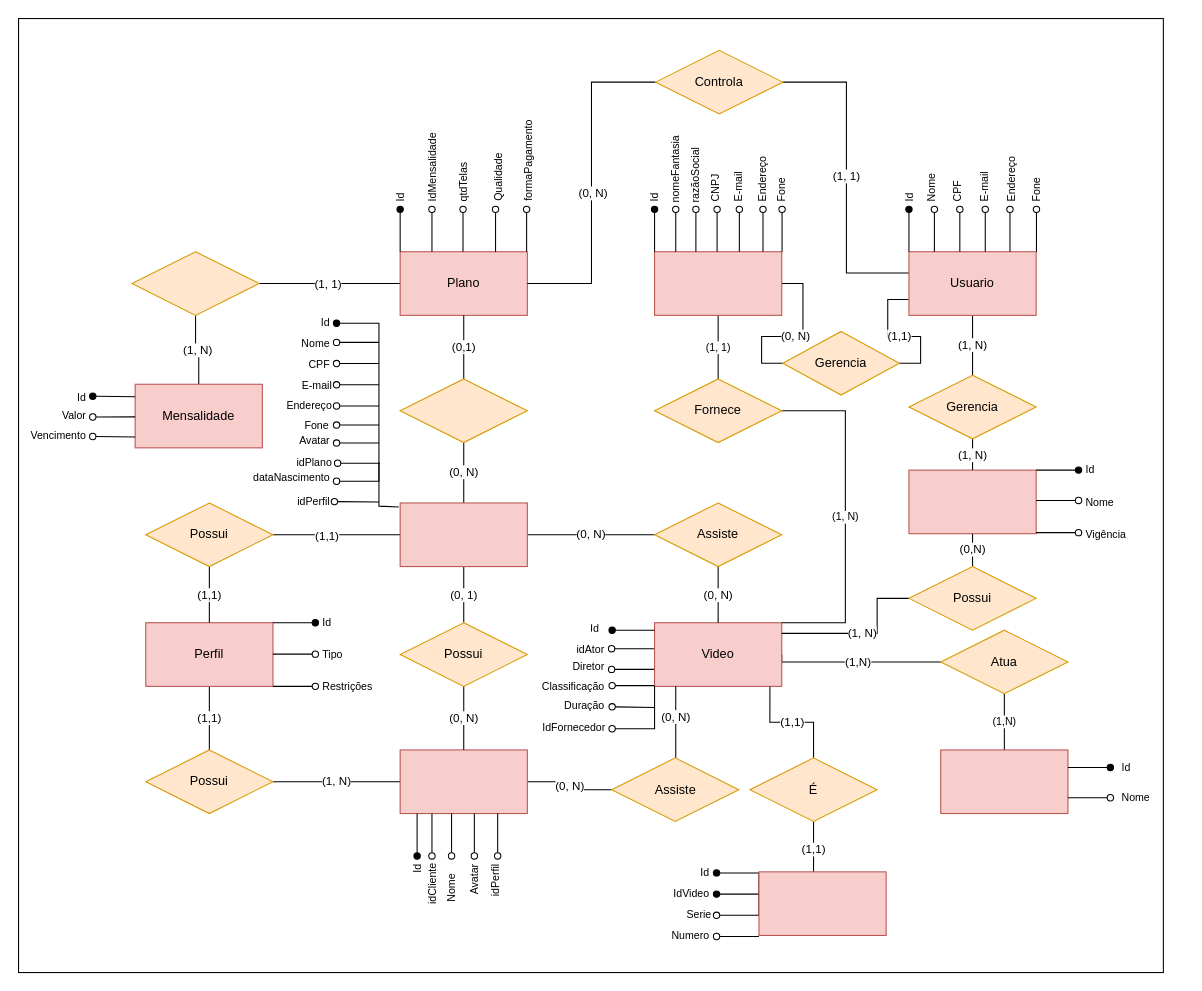
Some shapes in this 1202 by 991 pixel diagram are drawn without their labels. The centre of each missing label's shape, as x and y in pixels:
Adquire: [463,410]
Ator: [1004,781]
Catálogo: [972,501]
Cliente: [463,534]
Dependente: [463,781]
Distribuidor: [717,283]
Episódio: [822,903]
Gera: [195,283]
